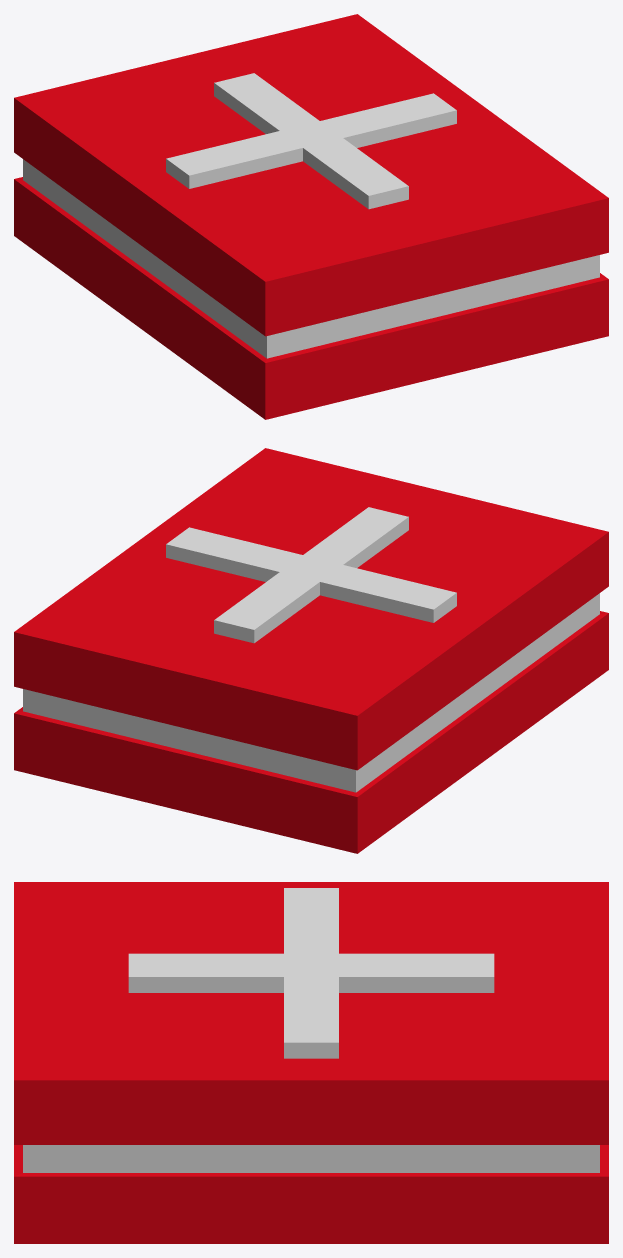
File: Medkit.fbx
3 views of the same model, one above another, from view 1: azimuth 30°, elevation 25°; view 2: azimuth 150°, elevation 25°; view 3: azimuth 270°, elevation 25° (orthographic). The views are drawn at different scales.
Parts seen in each view (by area): view 1: Medkit; view 2: Medkit; view 3: Medkit.
Boxes of the visible parts, box(x1,y1,x2,y2) form: Medkit: box(14, 14, 608, 419); Medkit: box(14, 448, 608, 853); Medkit: box(14, 882, 608, 1243).
Size of the model in its own units: 192 by 80.87 by 243.
